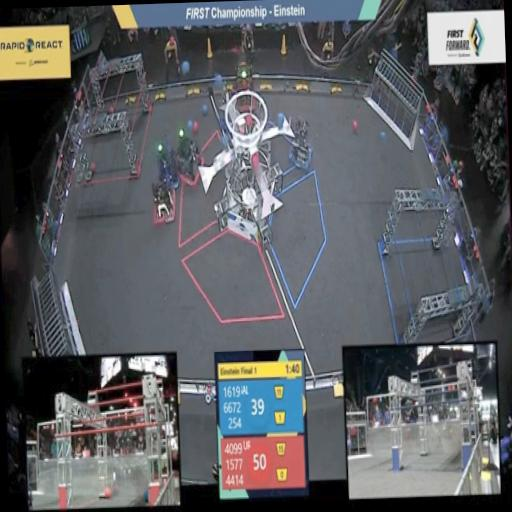robot: (172, 130, 207, 194), (284, 110, 316, 175), (150, 133, 182, 196), (150, 180, 178, 234), (228, 58, 254, 112)
